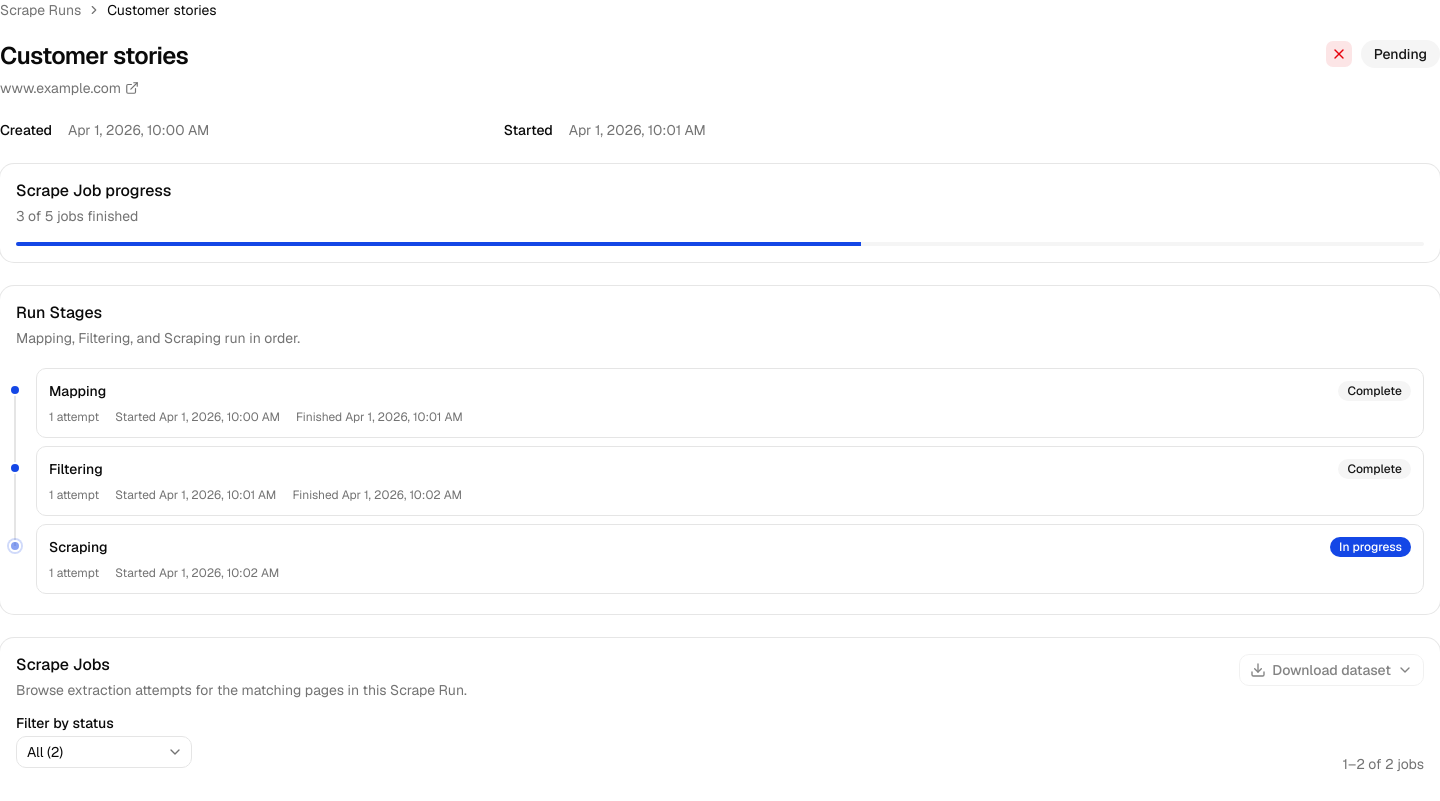
Test: Scrape Run cancellation › does not let an older in-flight refresh overwrite confirmed cancellation
Check: the heading "Customer stories" is shown, box [0, 40, 188, 72]
Click the button named "Cancel Scrape Run": {"x": 1339, "y": 54} [1325, 40, 1353, 68]
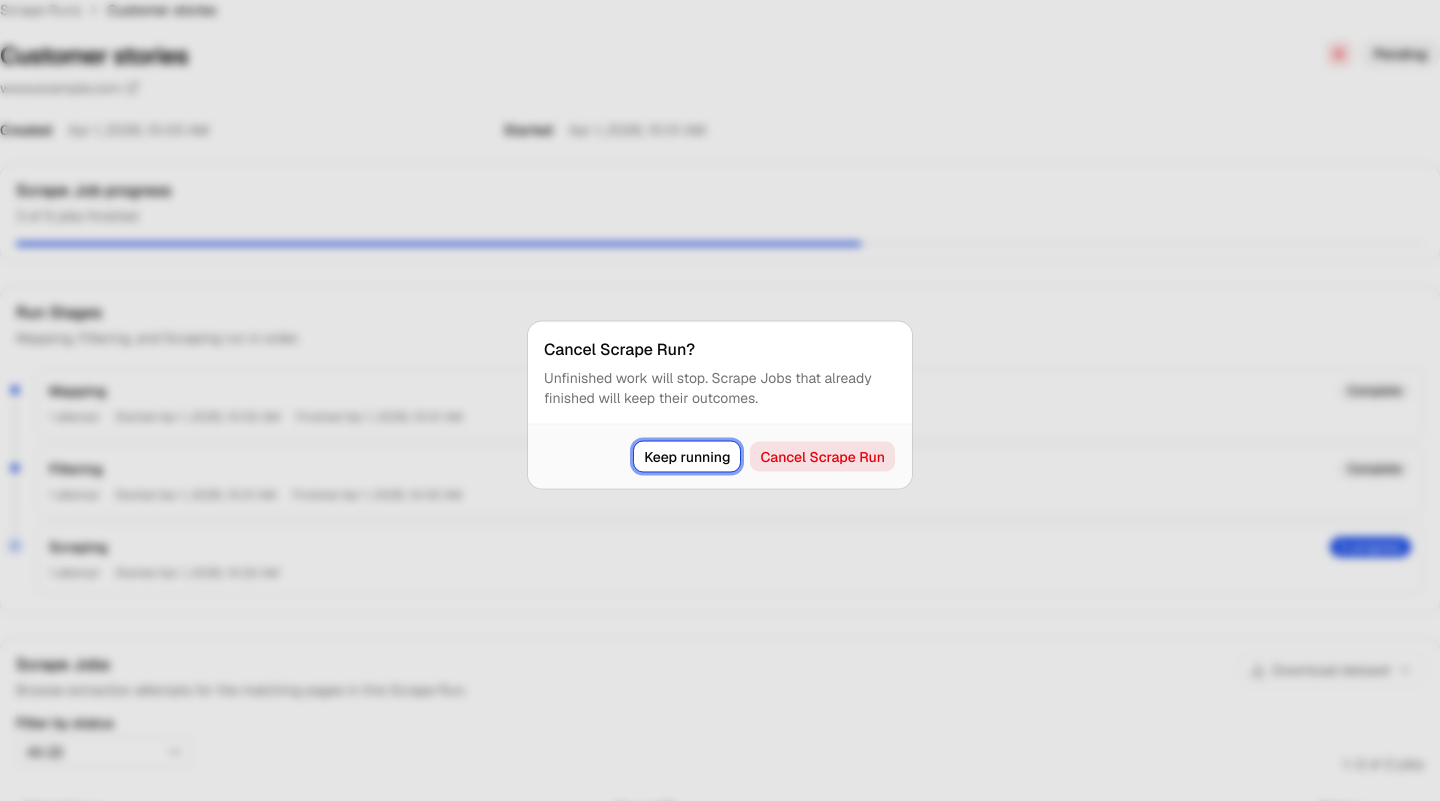
Click the button "Cancel Scrape Run": {"x": 823, "y": 456} [749, 440, 896, 472]
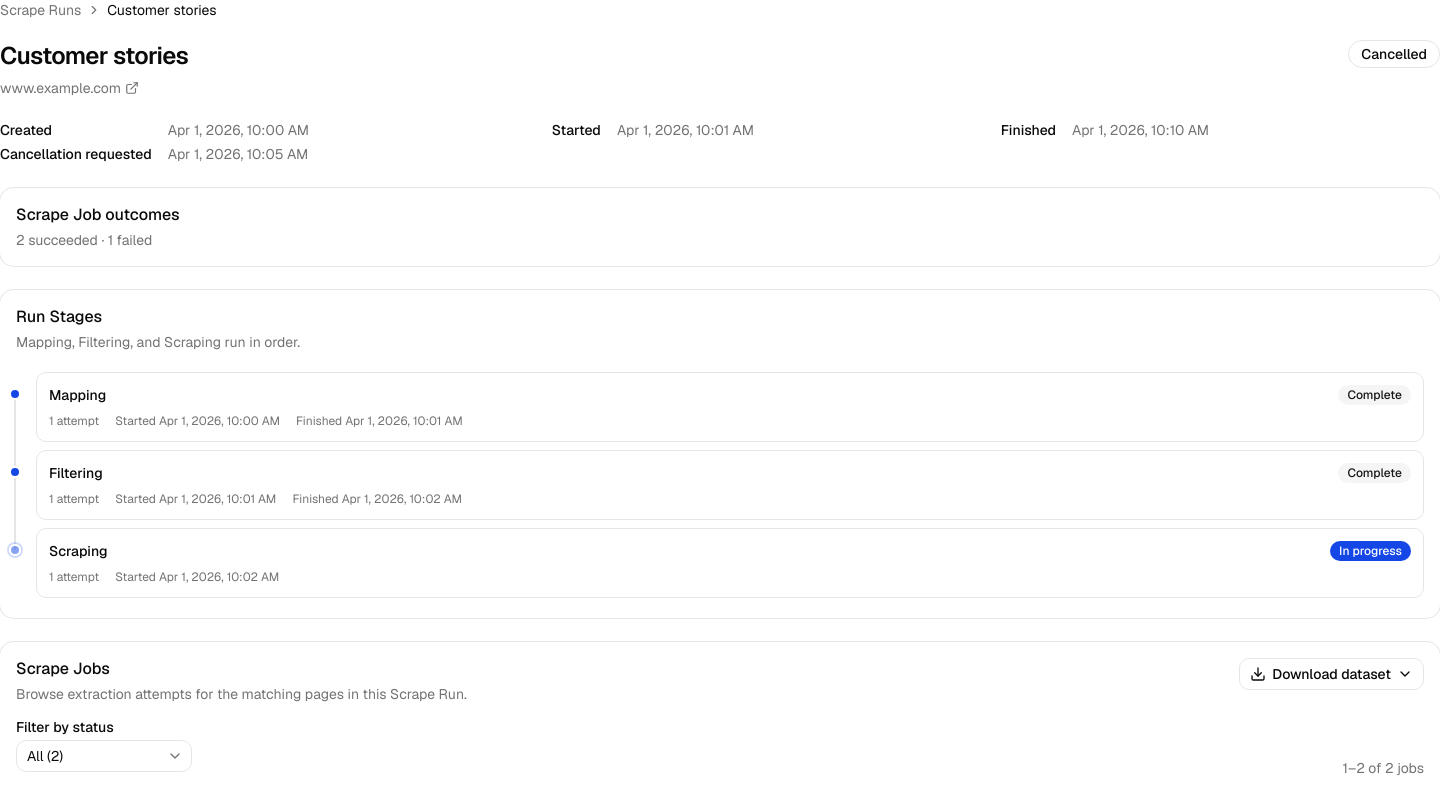
Check: the element "Customer stories" is shown, box [0, 0, 1439, 164]
Check: the text named "Status: Cancelled" is shown, box [1348, 40, 1439, 68]
